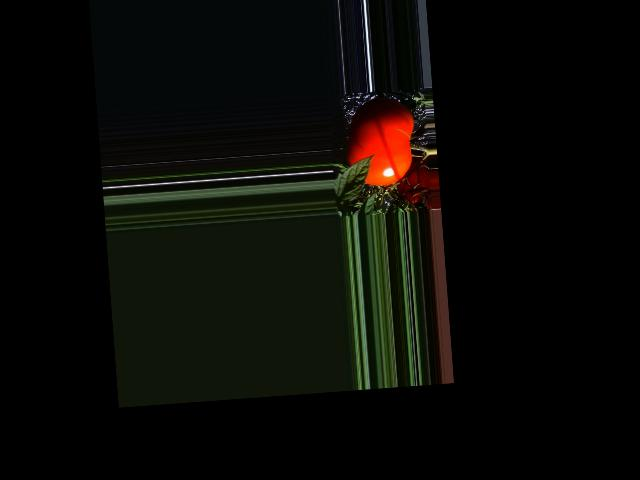tomato: (342, 95, 418, 188)
